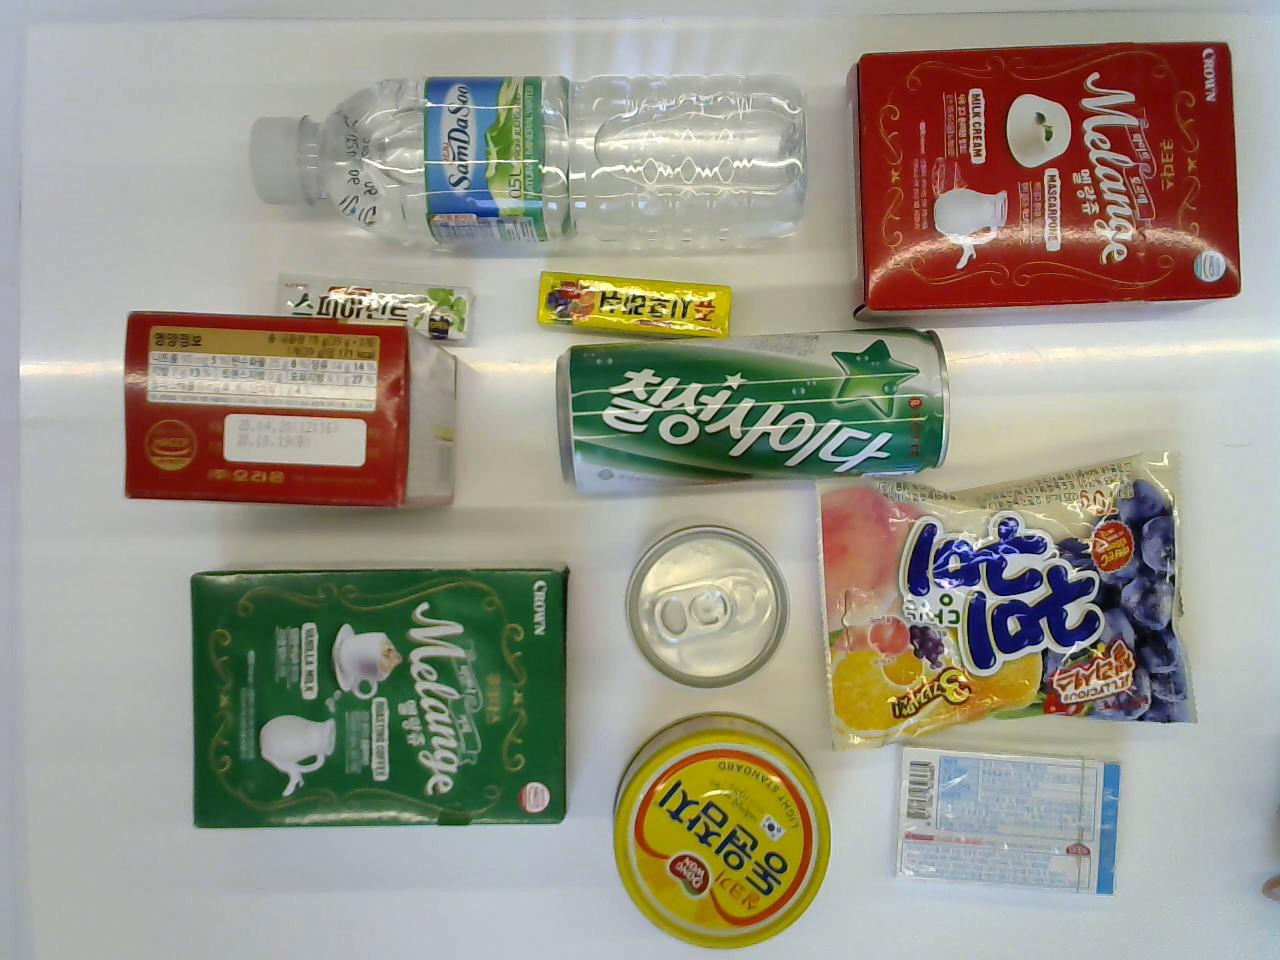ID_gum: (883, 734, 1127, 904)
chocopie: (117, 308, 466, 520)
cidar: (546, 315, 955, 505)
coke: (623, 519, 788, 693)
couque_coffee: (186, 555, 578, 835)
couque_white: (841, 28, 1246, 323)
gumi_gumi: (807, 445, 1203, 752)
juicyfresh: (530, 269, 735, 346)
samdasu: (240, 62, 814, 266)
spearmint: (275, 272, 476, 347)
tuna: (596, 705, 844, 955)
